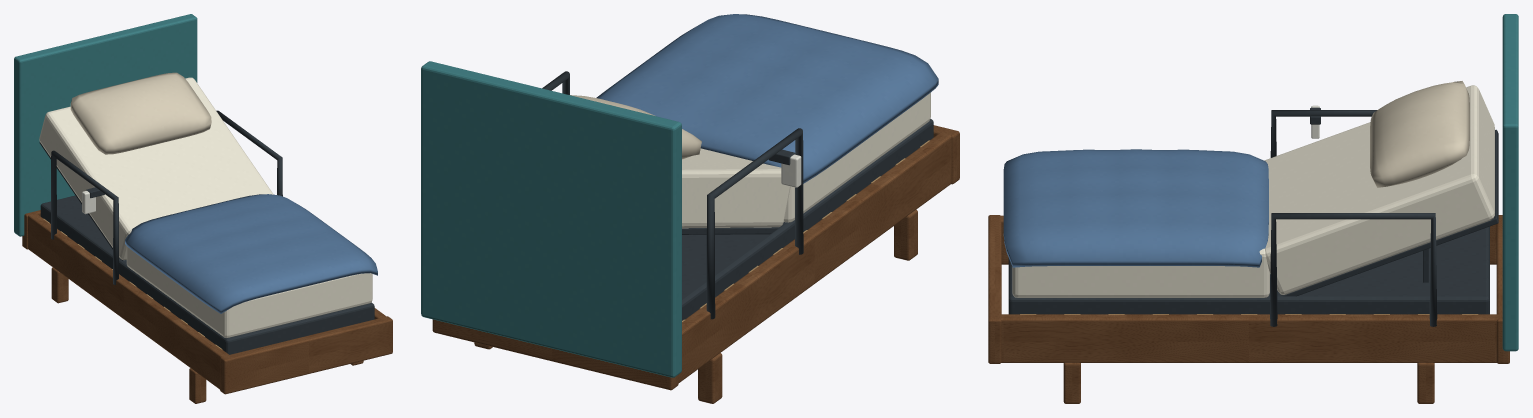
The picture shows the model from 3 angles, left to right: view 1: azimuth 30°, elevation 25°; view 2: azimuth 150°, elevation 25°; view 3: azimuth 270°, elevation 25°; orthographic projection. The views are drawn at different scales.
Visible parts, largest first — view 1: Closed duvet over flat leg section, Raised head mattress section, Bed headboard, Bed side rail, Raised-section pillow, Flat leg mattress section, Bed end rail, Articulating support base, Home-bed assist rail, Home-bed assist rail.001, Rounded furniture foot.001, Rounded furniture foot; view 2: Bed headboard, Closed duvet over flat leg section, Bed side rail, Articulating support base, Raised head mattress section, Flat leg mattress section, Bed end rail.001, Home-bed assist rail, Rounded furniture foot.001, Rounded furniture foot, Raised-section pillow, Tilted head-section support deck (+2 smaller); view 3: Closed duvet over flat leg section, Bed side rail.001, Raised head mattress section, Articulating support base, Flat leg mattress section, Raised-section pillow, Bed headboard, Home-bed assist rail.001, Bed end rail, Tilted head-section support deck, Bed end rail.001, Home-bed assist rail (+3 smaller).
Boxes of the visible parts, <box> form: Closed duvet over flat leg section: <box>125,194,377,313</box>; Raised head mattress section: <box>39,77,273,259</box>; Bed headboard: <box>14,14,197,236</box>; Bed side rail: <box>28,212,231,389</box>; Raised-section pillow: <box>70,72,211,154</box>; Flat leg mattress section: <box>126,230,372,337</box>; Bed end rail: <box>220,316,392,394</box>; Articulating support base: <box>40,195,374,354</box>; Home-bed assist rail: <box>51,150,118,284</box>; Home-bed assist rail.001: <box>216,110,282,196</box>; Rounded furniture foot.001: <box>51,267,68,303</box>; Rounded furniture foot: <box>189,368,206,403</box>; Bed headboard: <box>421,61,681,377</box>; Closed duvet over flat leg section: <box>596,14,938,183</box>; Bed side rail: <box>678,129,954,382</box>; Articulating support base: <box>682,119,933,320</box>; Raised head mattress section: <box>682,148,790,228</box>; Flat leg mattress section: <box>784,92,930,222</box>; Bed end rail.001: <box>432,319,678,390</box>; Home-bed assist rail: <box>706,128,803,319</box>; Rounded furniture foot.001: <box>698,353,722,403</box>; Rounded furniture foot: <box>894,209,917,260</box>; Raised-section pillow: <box>570,95,701,159</box>; Tilted head-section support deck: <box>682,227,778,234</box>; Closed duvet over flat leg section: <box>1003,149,1268,267</box>; Bed side rail.001: <box>991,314,1502,362</box>; Raised head mattress section: <box>1265,85,1494,294</box>; Articulating support base: <box>1008,226,1489,314</box>; Flat leg mattress section: <box>1012,160,1269,297</box>; Raised-section pillow: <box>1370,81,1469,187</box>; Bed headboard: <box>1502,14,1518,351</box>; Home-bed assist rail.001: <box>1270,213,1437,326</box>; Bed end rail: <box>988,215,1001,363</box>; Tilted head-section support deck: <box>1281,129,1498,296</box>; Bed end rail.001: <box>1496,215,1509,363</box>; Home-bed assist rail: <box>1270,110,1376,157</box>.
Bounding box in the file's own units: 1.14 × 1.27 × 2.16.
Materials: 8 (8 with a texture image).
